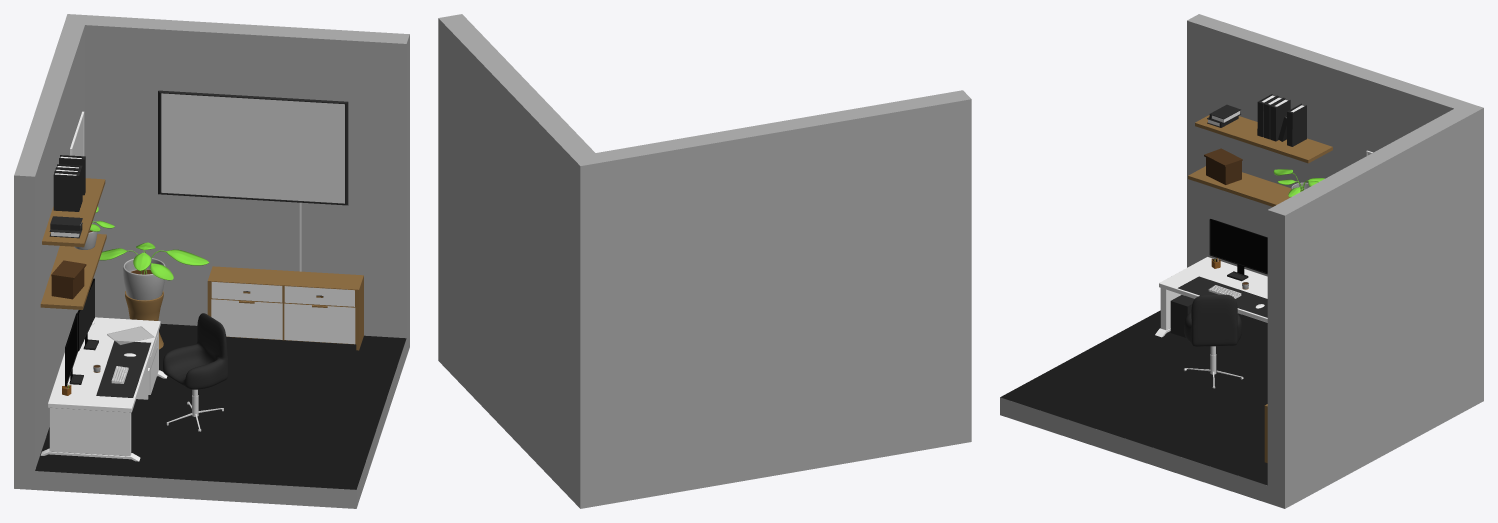
The model's file is alphagoFive.glb.
3 renders of one model, left to right at view 1: azimuth 30°, elevation 25°; view 2: azimuth 150°, elevation 25°; view 3: azimuth 270°, elevation 25°, orthographic. The views are drawn at different scales.
Parts seen in each view (by area): view 1: Floorobj.001, Screen, last.001, tabletop.001, tablelegs.001, chair.001, mousepad.001, tv.002, Cube.090, shelftop.008, flpot.003, Cube.091 (+8 smaller); view 2: Floorobj.001; view 3: Floorobj.001, chair.001, tabletop.001, shelftop.008, monitor.005, Cube.090, mousepad.001, Cube.091, shelftop.015, pc.001, shelftop.013.
Part boxes in pixels (x1,y1,x2,y2): Floorobj.001: (14,14,409,508); Screen: (161,93,344,203); last.001: (207,266,363,350); tabletop.001: (48,317,160,412); tablelegs.001: (49,331,158,456); chair.001: (163,313,227,389); mousepad.001: (96,341,150,397); tv.002: (158,90,348,205); Cube.090: (40,234,106,309); shelftop.008: (42,178,105,247); flpot.003: (123,258,165,300); Cube.091: (51,260,86,299); Floorobj.001: (438,14,971,508); Floorobj.001: (1000,14,1483,508); chair.001: (1184,294,1241,346); tabletop.001: (1159,257,1267,322); shelftop.008: (1195,115,1332,163); monitor.005: (1210,220,1267,273); Cube.090: (1188,166,1291,206); mousepad.001: (1178,276,1267,317); Cube.091: (1204,148,1242,184); shelftop.015: (1287,103,1306,146); pc.001: (1170,295,1194,337); shelftop.013: (1270,98,1290,141).
Size of the model in its own units: 23.94 by 16.23 by 24.26.
